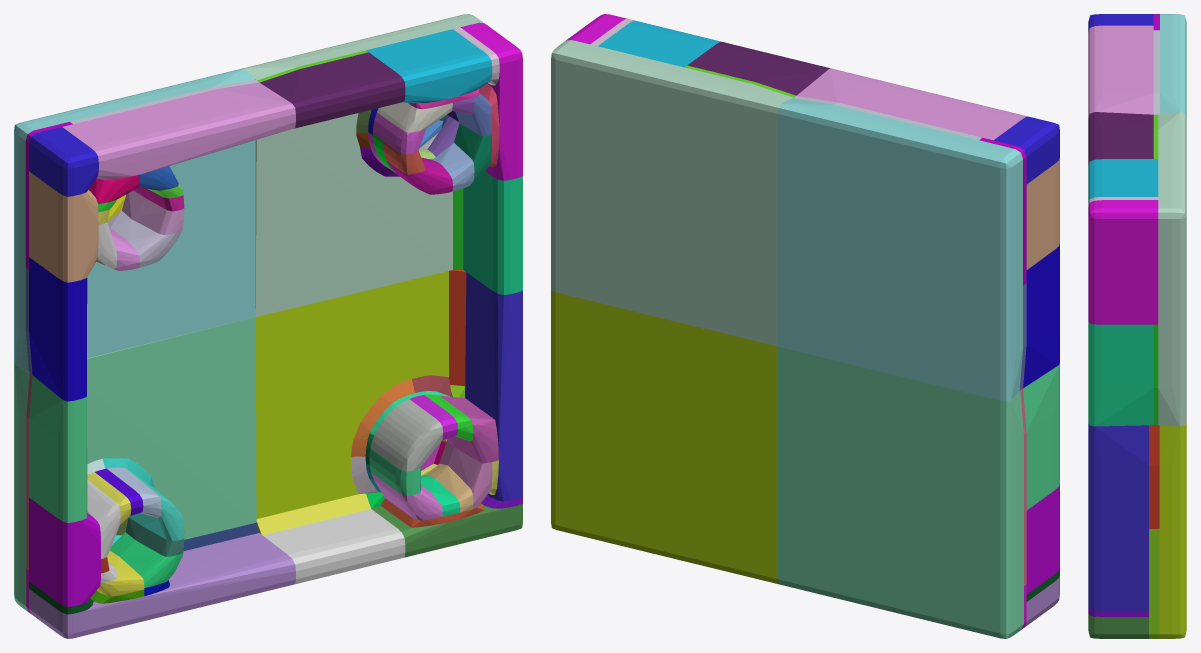
The model's file is square_table_top_1p5x_canonical.obj.
3 views of the same model, side by side, from view 1: azimuth 30°, elevation 25°; view 2: azimuth 150°, elevation 25°; view 3: azimuth 270°, elevation 25° (orthographic). The views are drawn at different scales.
Visible parts, largest first — view 1: geometry_0, geometry_3, geometry_4, geometry_2, geometry_7, geometry_1, geometry_18, geometry_10, geometry_5, geometry_23, geometry_26, geometry_6 (+44 smaller); view 2: geometry_2, geometry_3, geometry_0, geometry_4, geometry_7, geometry_10, geometry_5, geometry_26, geometry_29, geometry_9, geometry_32, geometry_20 (+4 smaller); view 3: geometry_18, geometry_0, geometry_14, geometry_23, geometry_4, geometry_7, geometry_26, geometry_29, geometry_2, geometry_19, geometry_17, geometry_15 (+6 smaller).
Part boxes in pixels (x1,y1,x2,y2): geometry_0: (242, 14, 484, 316); geometry_3: (14, 317, 256, 611); geometry_4: (255, 271, 448, 518); geometry_2: (14, 68, 255, 372); geometry_7: (62, 82, 295, 179); geometry_1: (29, 533, 295, 638); geometry_18: (465, 272, 522, 501); geometry_10: (29, 375, 87, 522); geometry_5: (29, 257, 87, 401); geometry_23: (463, 171, 522, 294); geometry_26: (260, 52, 405, 128); geometry_6: (263, 509, 405, 583); geometry_2: (778, 98, 1022, 401); geometry_3: (778, 346, 1023, 638); geometry_0: (551, 40, 793, 346); geometry_4: (551, 290, 778, 584); geometry_7: (797, 68, 1027, 140); geometry_10: (1023, 363, 1059, 510); geometry_5: (1023, 244, 1059, 388); geometry_26: (687, 42, 830, 95); geometry_29: (598, 20, 721, 67); geometry_9: (1026, 158, 1059, 269); geometry_32: (1026, 484, 1059, 594); geometry_20: (994, 116, 1059, 183); geometry_18: (1088, 423, 1148, 610); geometry_0: (1158, 112, 1186, 426); geometry_14: (1088, 200, 1158, 324); geometry_23: (1088, 321, 1153, 426); geometry_4: (1159, 423, 1186, 638); geometry_7: (1088, 25, 1153, 117); geometry_26: (1088, 112, 1153, 165); geometry_29: (1088, 159, 1158, 203); geometry_2: (1160, 14, 1186, 118); geometry_19: (1088, 614, 1148, 638); geometry_17: (1149, 529, 1159, 638); geometry_15: (1149, 425, 1159, 528).
Size of the model in its own units: 0.2482 by 0.2482 by 0.0513.
